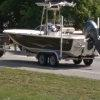Boat: (2, 13, 98, 64)
